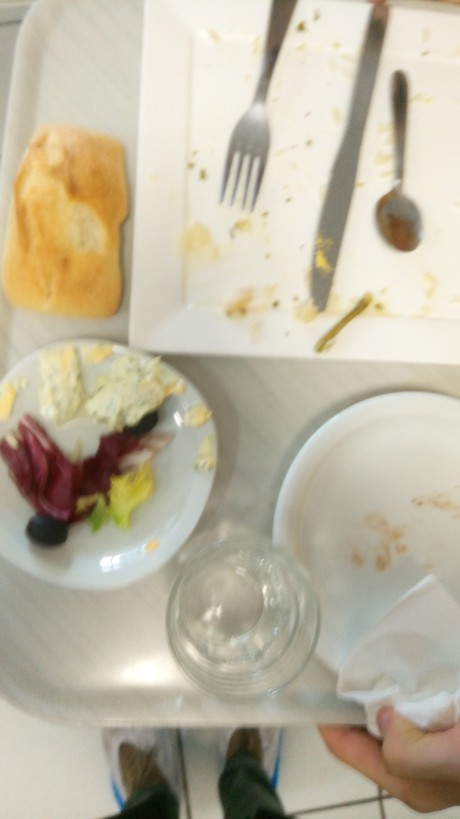cup: (172, 542, 320, 735)
cutlery: (204, 6, 442, 303)
orga: (21, 364, 179, 536), (20, 129, 126, 332)
trash: (353, 572, 454, 706)
